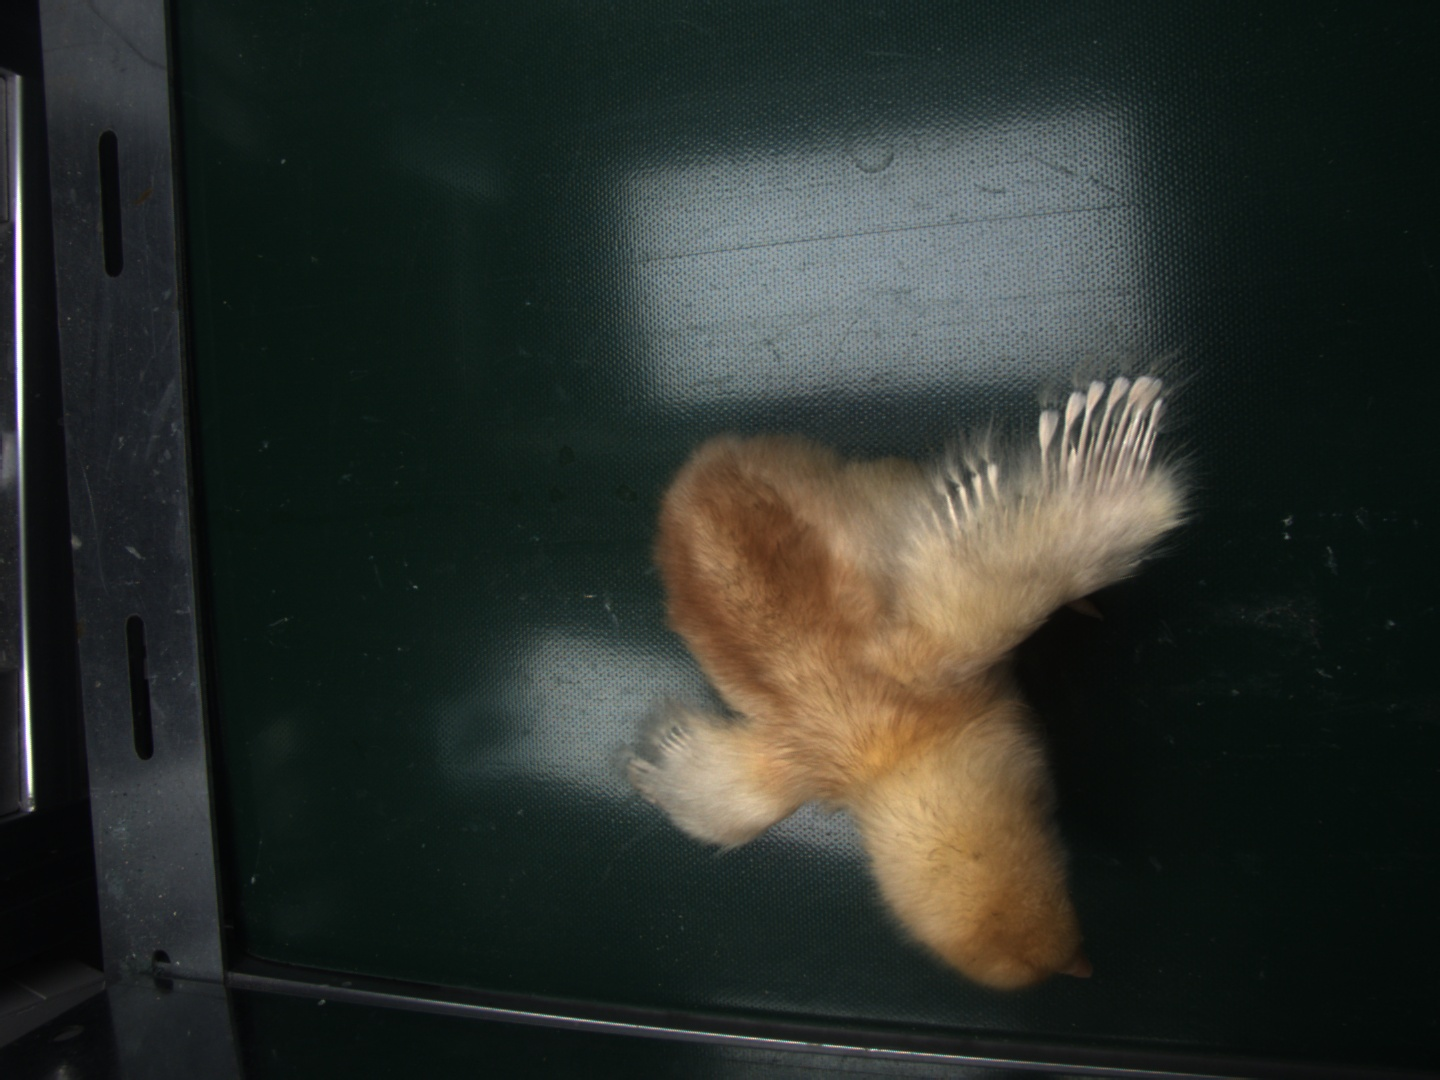female: (1047, 369, 1169, 478)
